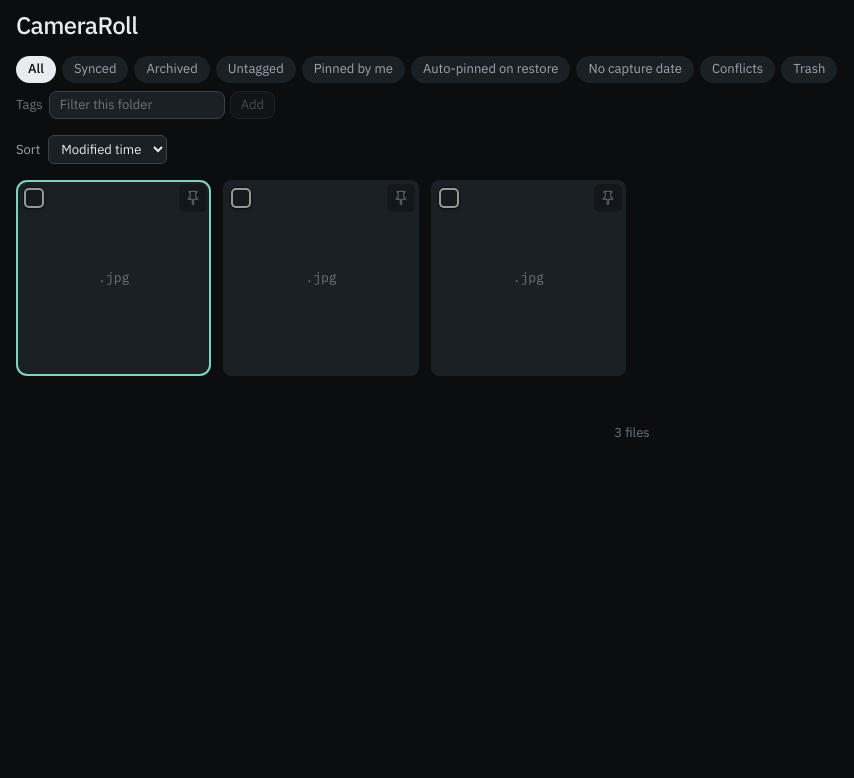
Test: Gallery › navigates and ranges over the rows actually rendered by ragged capture-day grids
Later steps or results of the test are not shown.
Expected: the button with aria-label "day-one-only.jpg" is shown, [16,180,211,376]
Select "Capture time" in the dropdown named "Sort gallery": (108, 150) [48,135,167,164]
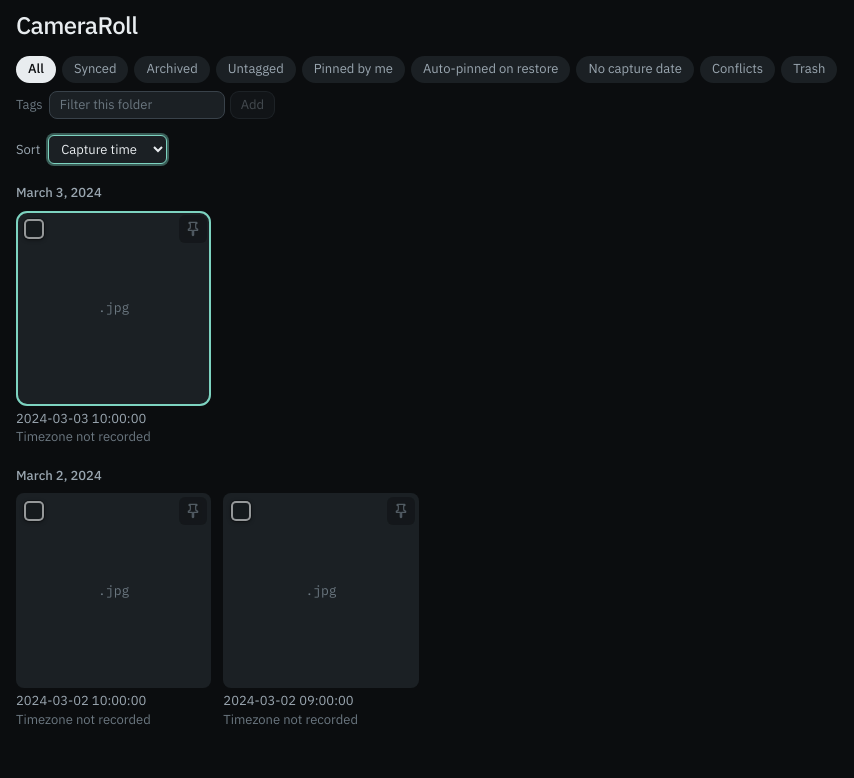
Expected: the heading "March 3, 2024" is shown, [16,184,102,201]
